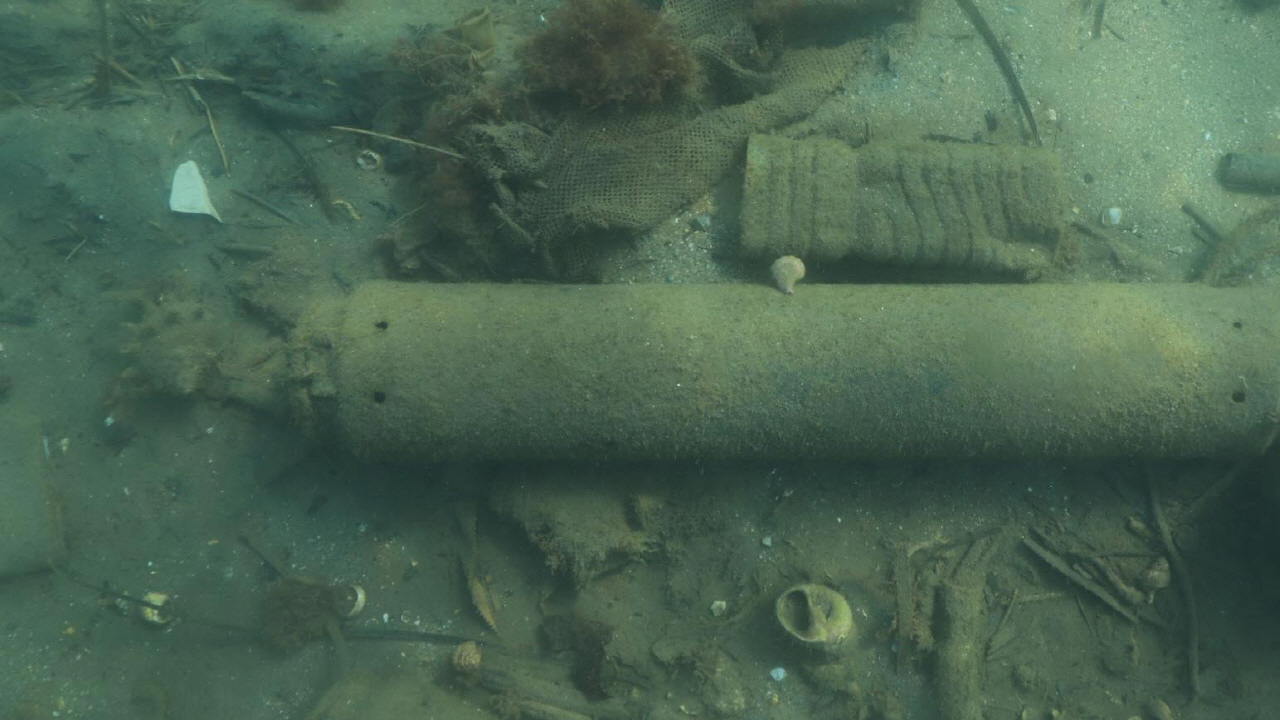eel fish trap: (288, 283, 1280, 472)
fish net: (461, 0, 871, 281)
